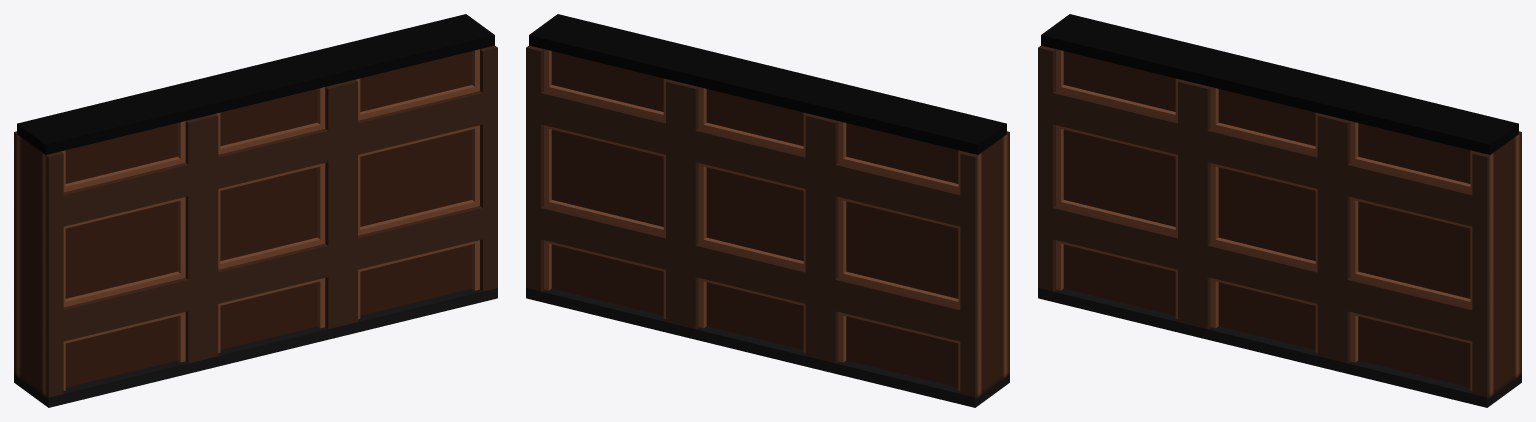
File: Wall-Wood-Model-05.fbx
The picture shows the model from 3 angles, left to right: view 1: azimuth 30°, elevation 25°; view 2: azimuth 150°, elevation 25°; view 3: azimuth 330°, elevation 25°; orthographic projection.
Parts seen in each view (by area): view 1: Wall-Wood-Model-05; view 2: Wall-Wood-Model-05; view 3: Wall-Wood-Model-05.
Boxes of the visible parts, <box> form: Wall-Wood-Model-05: <box>14,14,497,407</box>; Wall-Wood-Model-05: <box>526,14,1009,407</box>; Wall-Wood-Model-05: <box>1038,14,1521,407</box>.
Bounding box in the file's own units: 90 × 50 × 12.
1 material, 1 textured.
